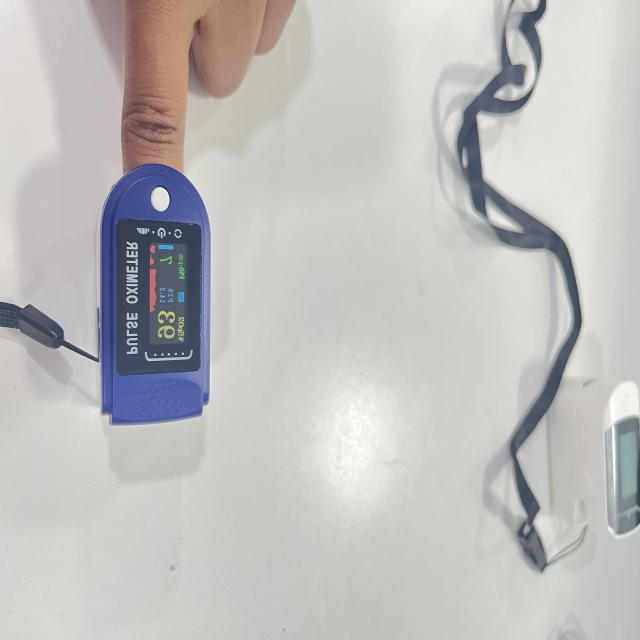spo2: (97, 164, 212, 429)
